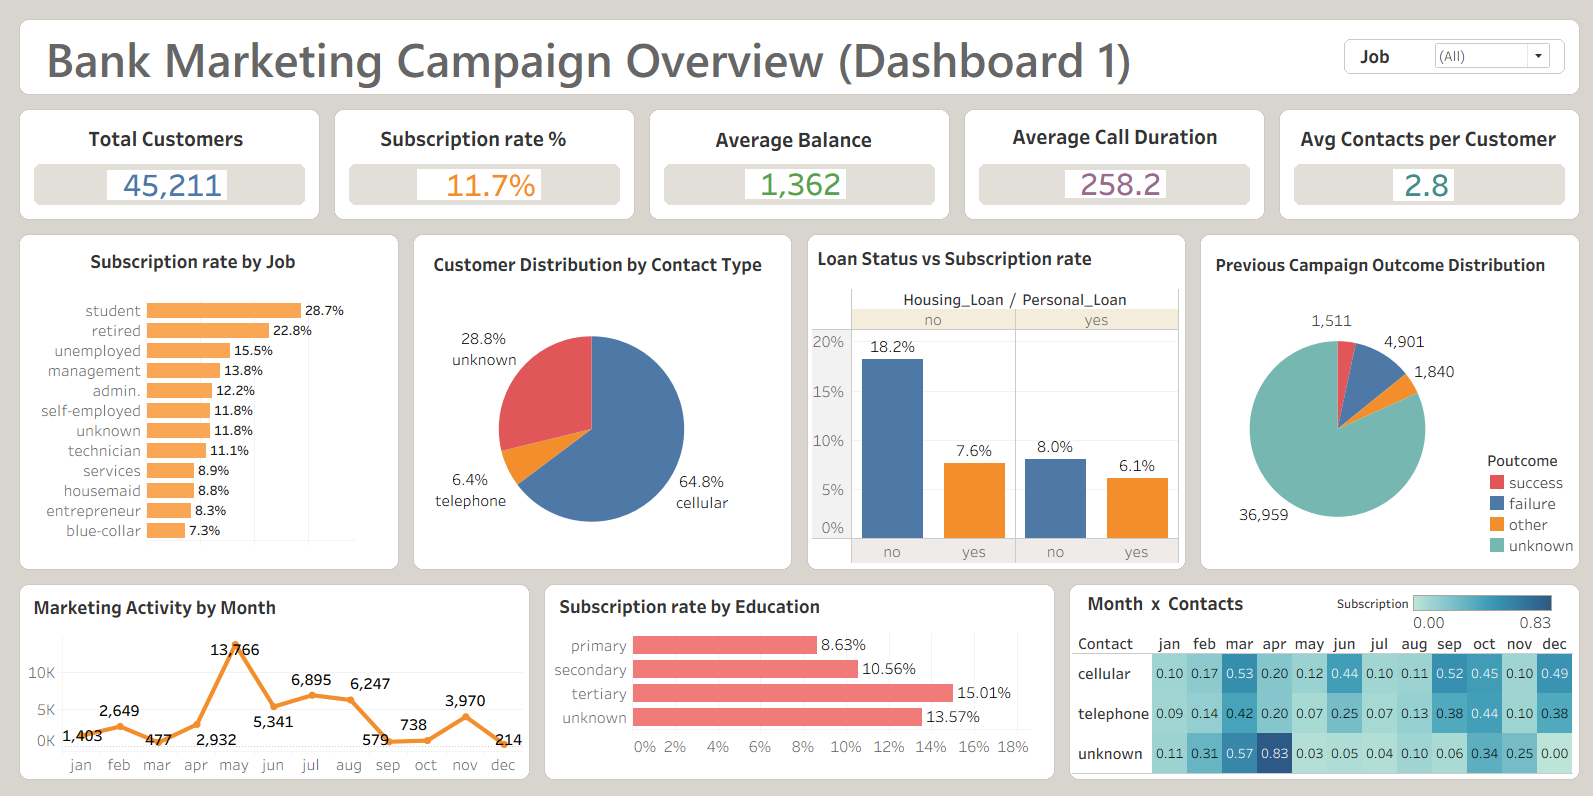

Layout of this report page (visuals, bound fields, positions):
{"tool":"tableau","page":{"name":"Dashboard 1","canvas":[1600,8000],"ordinal":0},"visuals":[{"type":"image","param":"C:/Users/LENOVO/Downloads/dashboard_bg_1600x800.png","box":[0,0,1600,800]},{"type":"text","box":[26,18,1128,81]},{"type":"filter","title":"Subscription Rate by Job","param":"[federated.10ulu2d0axs8fh14mv0v413qdz5e].[none:V2:nk]","box":[1361,44,193,26]},{"type":"text","box":[1010,112,248,49]},{"type":"text","box":[378,117,221,44]},{"type":"text","box":[86,118,169,42]},{"type":"text","box":[713,118,188,44]},{"type":"text","box":[1298,118,288,41]},{"type":"worksheet","title":"KPI - Subscription Rate","mark":"Automatic","box":[418,155,170,54]},{"type":"worksheet","title":"KPI - Average Balance","mark":"Automatic","box":[746,155,138,58]},{"type":"worksheet","title":"KPI - Avg Contacts per Customer","mark":"Automatic","box":[1394,155,86,55]},{"type":"worksheet","title":"KPI-Total Customers","mark":"Automatic","box":[108,156,171,52]},{"type":"worksheet","title":"KPI - Avg Duration by Outcome","mark":"Automatic","box":[1066,156,135,45]},{"type":"worksheet","title":"Housing & Personal loan vs Subscription rate","mark":"Automatic","rows":["Calculation_1324386255863811"],"cols":["V7","V8"],"box":[813,240,367,325]},{"type":"text","box":[815,240,364,38]},{"type":"text","box":[88,243,243,38]},{"type":"text","box":[431,243,352,43]},{"type":"text","box":[1213,247,338,37]},{"type":"worksheet","title":"Previous Campaign outcome distribution","mark":"Pie","box":[1206,285,277,279]},{"type":"worksheet","title":"Subscription Rate by Job","mark":"Automatic","rows":["V2"],"cols":["Calculation_1324386255863811"],"box":[27,286,366,278]},{"type":"worksheet","title":"Customer Distribution by Contact Type","mark":"Pie","box":[424,290,356,275]},{"type":"text","box":[1309,306,72,30]},{"type":"legend","title":"Previous Campaign outcome distribution","param":"[federated.10ulu2d0axs8fh14mv0v413qdz5e].[none:V16:nk]","box":[1488,451,94,106]},{"type":"text","box":[1085,589,172,30]},{"type":"text","box":[31,590,286,36]},{"type":"text","box":[557,591,306,32]},{"type":"legend","title":"Month × Contact Type","param":"[federated.10ulu2d0axs8fh14mv0v413qdz5e].[usr:Calculation_1324386255863811:qk]","box":[1338,592,219,39]},{"type":"worksheet","title":"Subscription Rate by Education","mark":"Automatic","rows":["V4"],"cols":["Calculation_1324386255863811"],"box":[553,619,494,156]},{"type":"worksheet","title":"Month × Contact Type","mark":"Square","rows":["V9"],"cols":["V11"],"box":[1073,619,522,163]},{"type":"worksheet","title":"Marketing Activity by Month","mark":"Line","rows":["V1"],"cols":["V11"],"box":[28,623,496,154]}]}

Visuals, with their boxes on the page's 1600x8000 design canvas (x1, y1, x2, y2). These are canvas units, not pixel positions in the 1593x796 screenshot, which may show the page scaled, cropped or inside an application window:
image: crop(0, 0, 1600, 800)
text: crop(26, 18, 1154, 99)
"Subscription Rate by Job" filter: crop(1361, 44, 1554, 70)
text: crop(1010, 112, 1258, 161)
text: crop(378, 117, 599, 161)
text: crop(86, 118, 255, 160)
text: crop(713, 118, 901, 162)
text: crop(1298, 118, 1586, 159)
"KPI - Subscription Rate" worksheet: crop(418, 155, 588, 209)
"KPI - Average Balance" worksheet: crop(746, 155, 884, 213)
"KPI - Avg Contacts per Customer" worksheet: crop(1394, 155, 1480, 210)
"KPI-Total Customers" worksheet: crop(108, 156, 279, 208)
"KPI - Avg Duration by Outcome" worksheet: crop(1066, 156, 1201, 201)
"Housing & Personal loan vs Subscription rate" worksheet: crop(813, 240, 1180, 565)
text: crop(815, 240, 1179, 278)
text: crop(88, 243, 331, 281)
text: crop(431, 243, 783, 286)
text: crop(1213, 247, 1551, 284)
"Previous Campaign outcome distribution" worksheet (Pie marks): crop(1206, 285, 1483, 564)
"Subscription Rate by Job" worksheet: crop(27, 286, 393, 564)
"Customer Distribution by Contact Type" worksheet (Pie marks): crop(424, 290, 780, 565)
text: crop(1309, 306, 1381, 336)
"Previous Campaign outcome distribution" legend: crop(1488, 451, 1582, 557)
text: crop(1085, 589, 1257, 619)
text: crop(31, 590, 317, 626)
text: crop(557, 591, 863, 623)
"Month × Contact Type" legend: crop(1338, 592, 1557, 631)
"Subscription Rate by Education" worksheet: crop(553, 619, 1047, 775)
"Month × Contact Type" worksheet (Square marks): crop(1073, 619, 1595, 782)
"Marketing Activity by Month" worksheet (Line marks): crop(28, 623, 524, 777)
